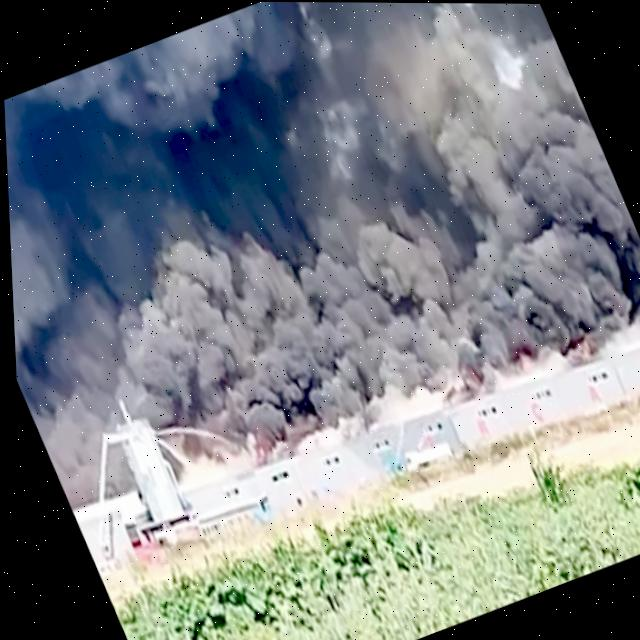Smoke: (0, 0, 640, 538)
